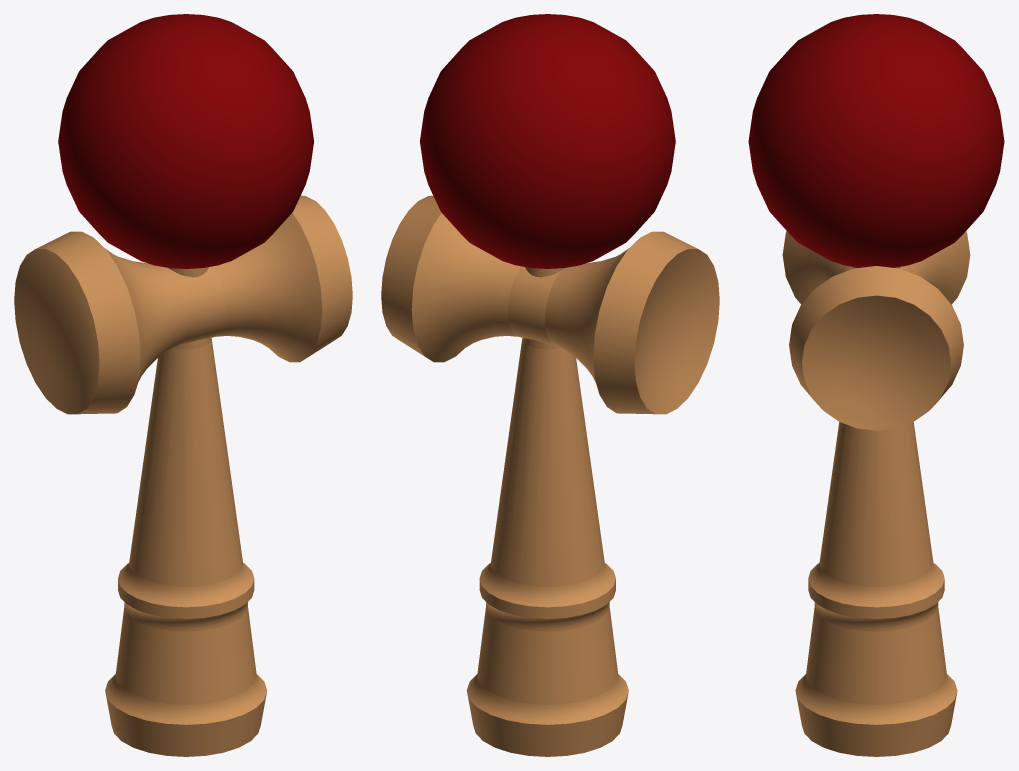
File: kendama.dae
3 views of the same model, side by side, from view 1: azimuth 30°, elevation 25°; view 2: azimuth 150°, elevation 25°; view 3: azimuth 270°, elevation 25° (orthographic).
Visible parts, largest first — view 1: ball, group_1, group_2; view 2: ball, group_1, group_2; view 3: ball, group_1, group_2.
Boxes of the visible parts, left/top/right/bottom form: ball: left=58, top=14, right=313, bottom=268; group_1: left=105, top=267, right=267, bottom=756; group_2: left=14, top=195, right=352, bottom=414; ball: left=420, top=14, right=675, bottom=268; group_1: left=466, top=267, right=628, bottom=756; group_2: left=381, top=195, right=719, bottom=414; ball: left=748, top=14, right=1004, bottom=267; group_1: left=795, top=267, right=957, bottom=756; group_2: left=782, top=231, right=970, bottom=430.
Size of what is drawn, in the model's own units: 2.76 by 2.36 by 7.13.
